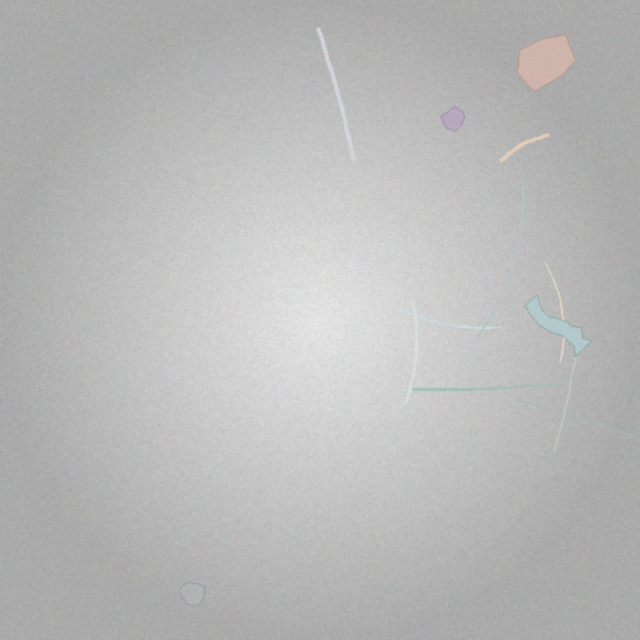fiber: (475, 182, 526, 339), (513, 397, 639, 450), (313, 23, 358, 164), (551, 341, 579, 454), (542, 260, 566, 366), (402, 308, 504, 330), (410, 380, 563, 393), (402, 300, 420, 407), (497, 132, 553, 166)
film: (526, 294, 592, 357)
fragment: (518, 35, 576, 92), (179, 582, 205, 607), (441, 106, 464, 131)
